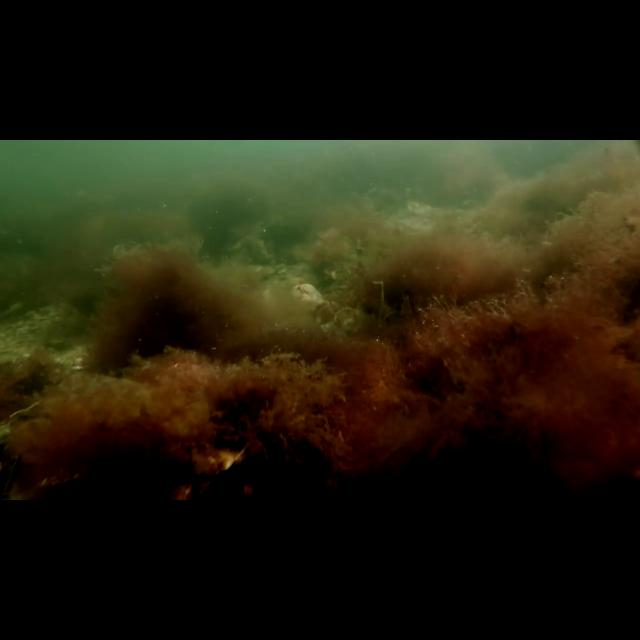Oyster-Closed: (186, 438, 254, 498)
